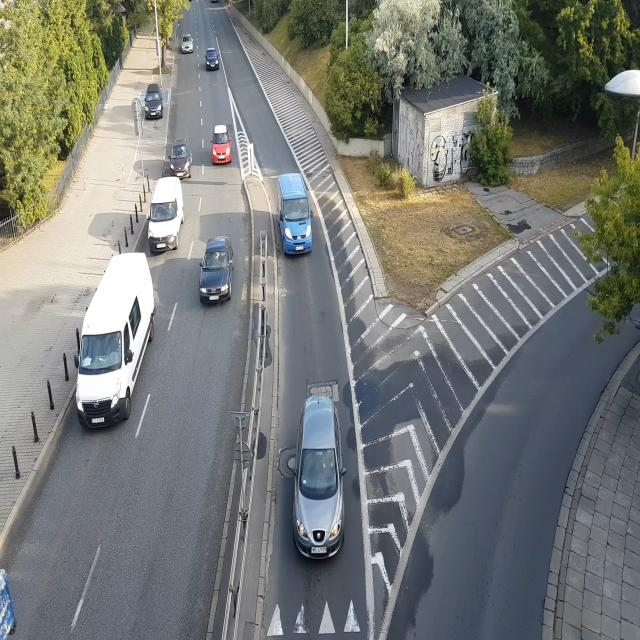car: (285, 395, 357, 560), (276, 174, 313, 257), (146, 178, 185, 254), (200, 236, 235, 303), (166, 141, 193, 180), (212, 126, 233, 166), (144, 85, 164, 118), (204, 48, 219, 70), (182, 36, 196, 54)
